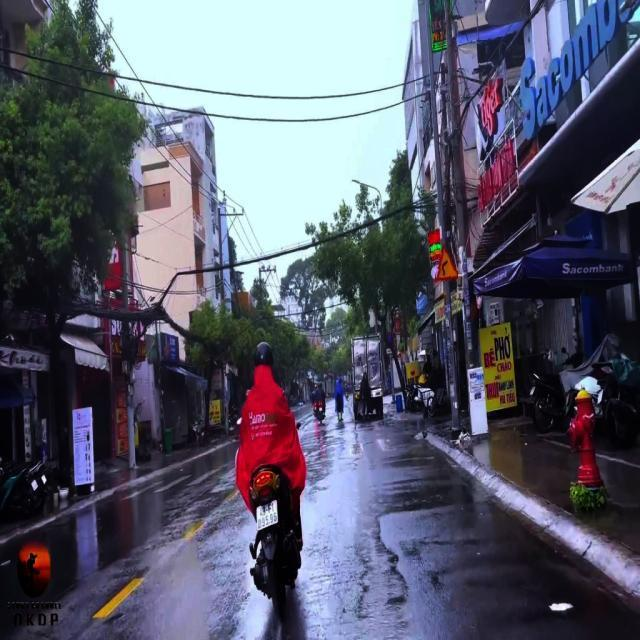201-cho-ngoat-nguy-hiem: (435, 244, 460, 280)
